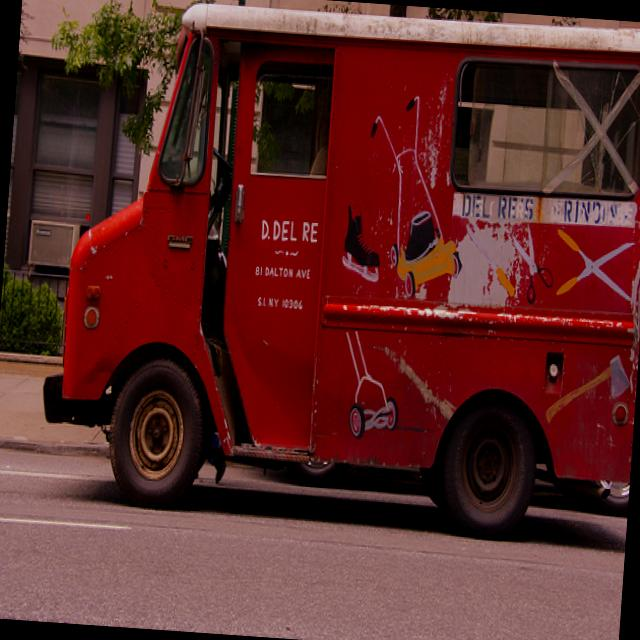Vehicle: (29, 0, 640, 552)
